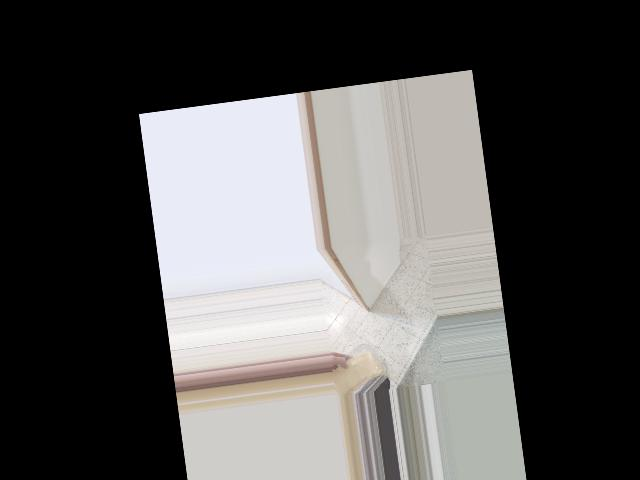cheese: (328, 342, 389, 397)
